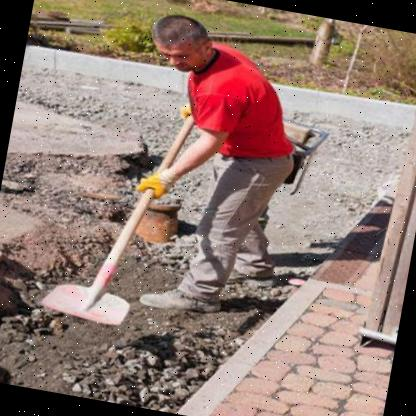bota: (137, 271, 224, 319)
capacete: (145, 11, 217, 76)
